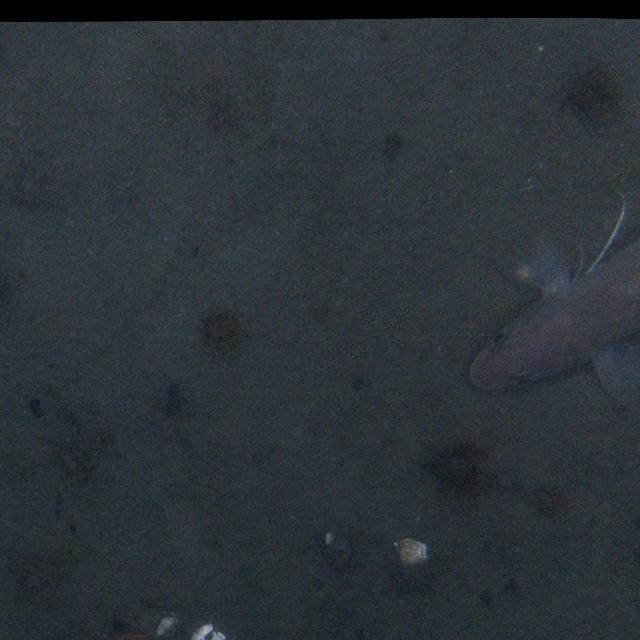roundfish: (465, 193, 640, 420)
